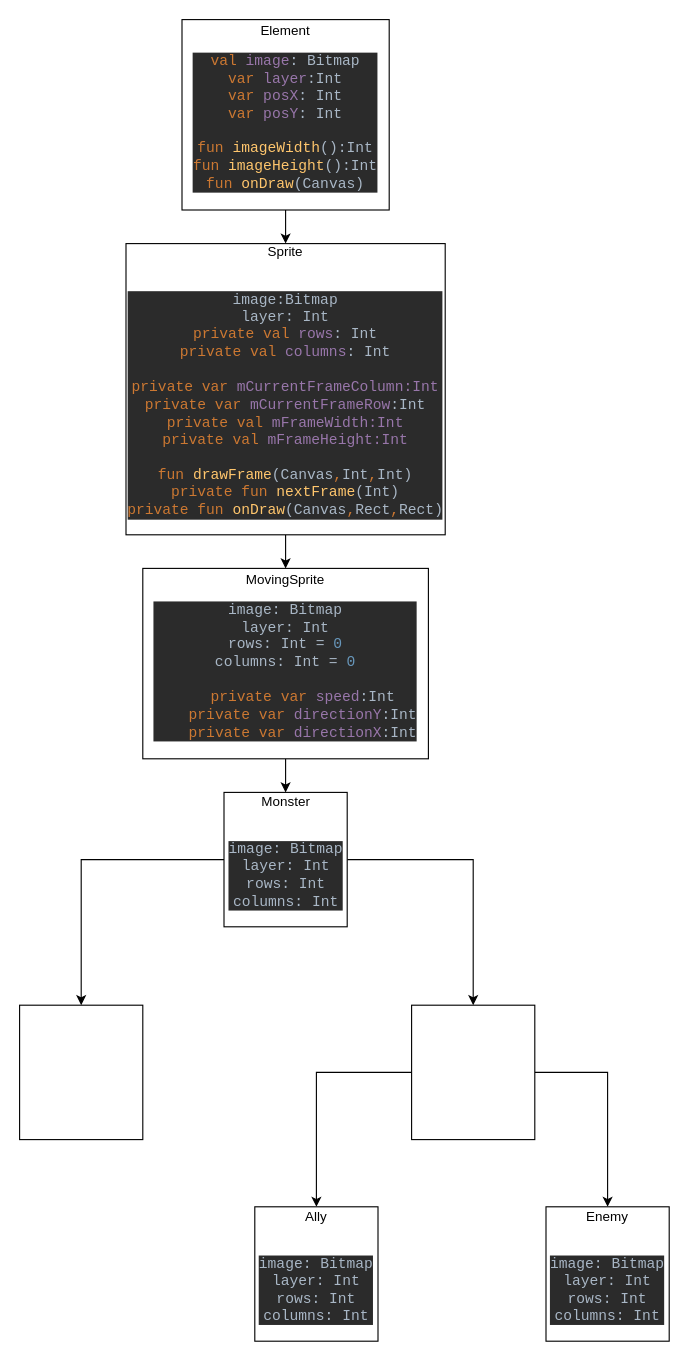
This 689x1361 diagram has some shape labels left out. The shapes that lost their labels are listed below. From the top down, each one's centre as x and y in pixels, then its label:
At pixel 80 1072: "PC image: Bitmap layer: Int rows: Int columns: Int".
At pixel 472 1072: "NPC image: Bitmap layer: Int rows: Int columns: Int".
